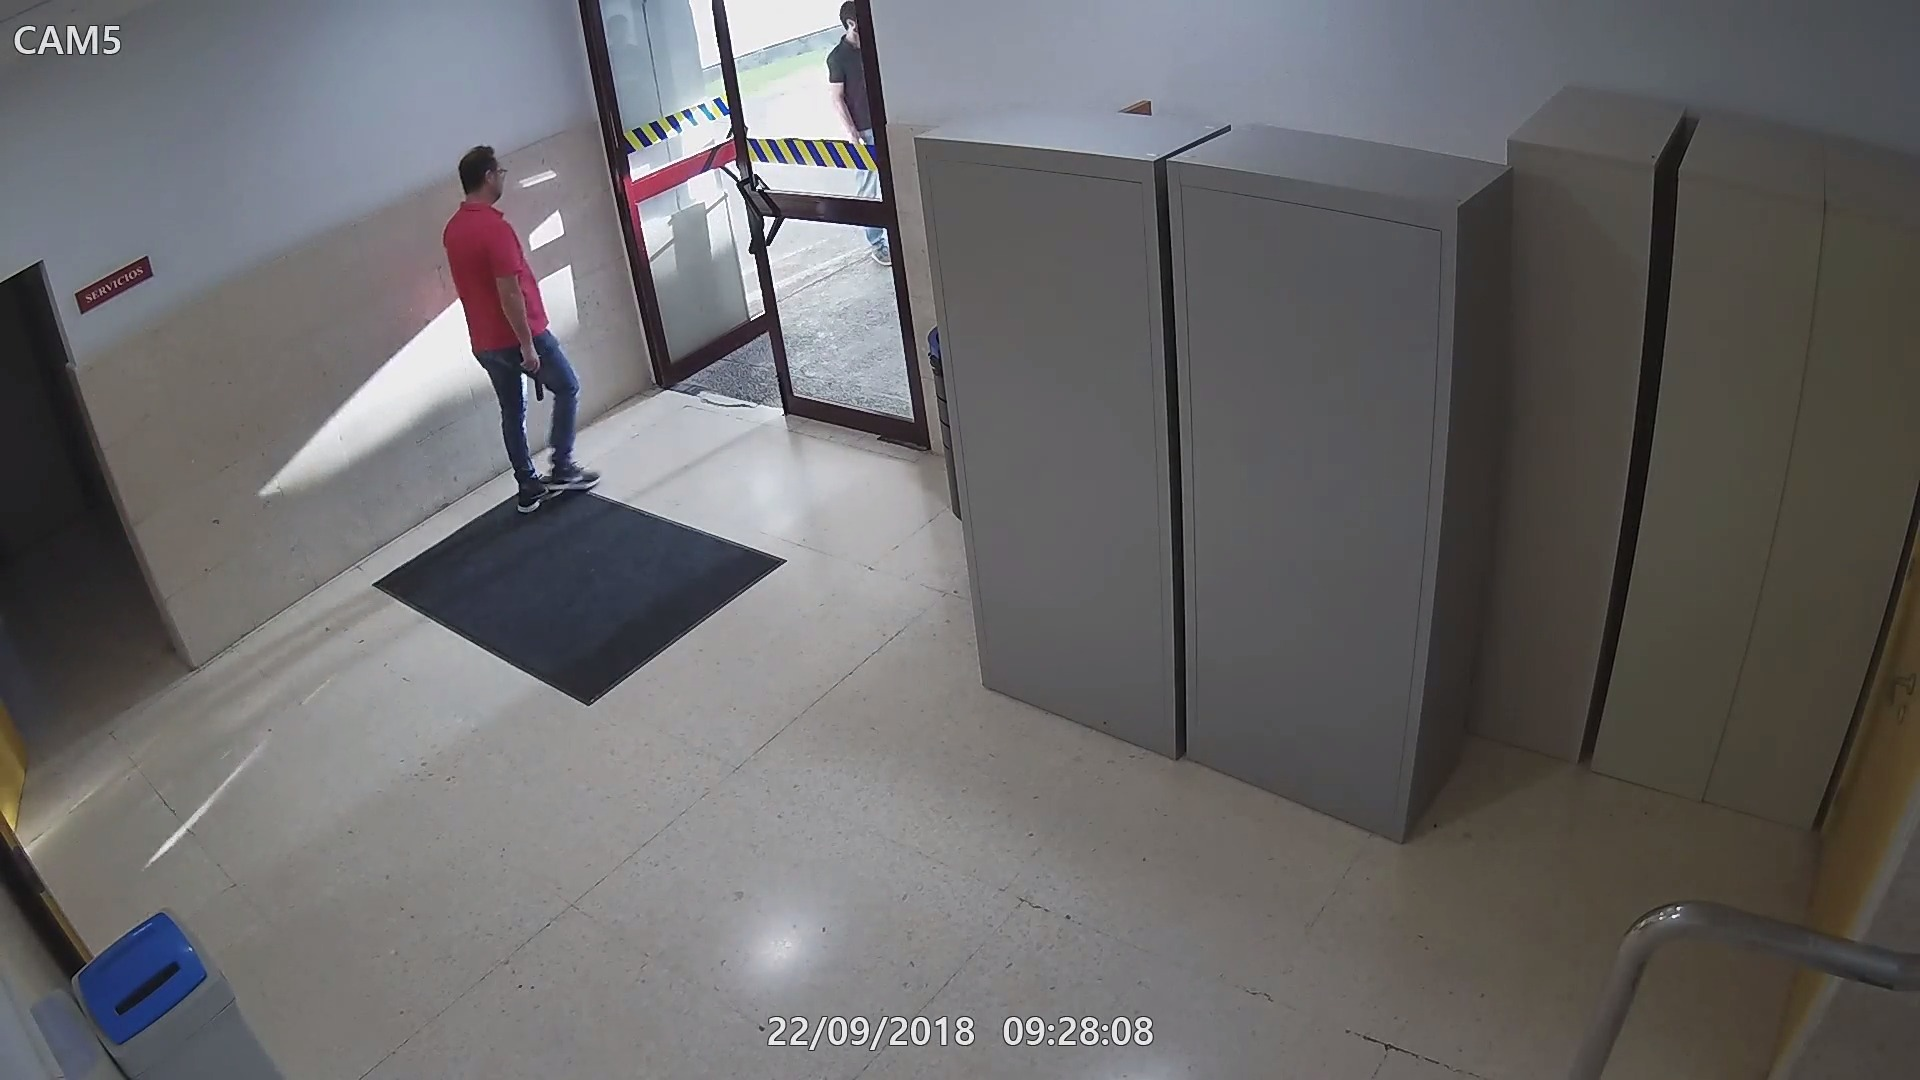Handgun: (516, 345, 546, 400)
